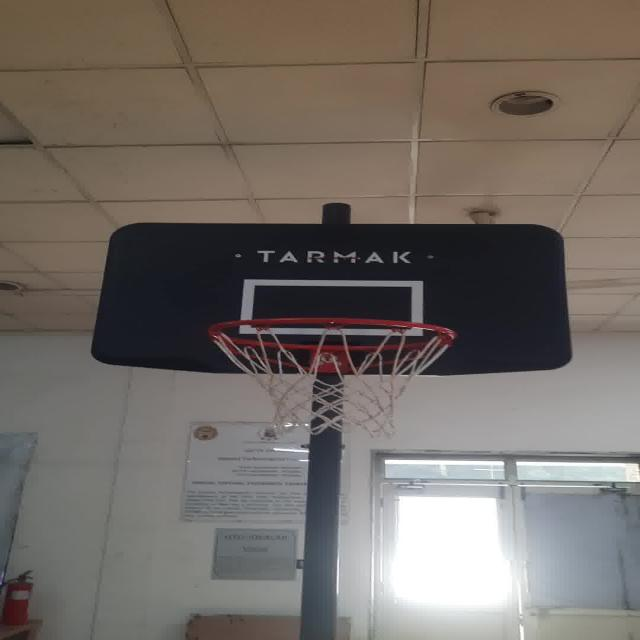objects: (190, 319, 470, 435), (237, 278, 428, 334)
